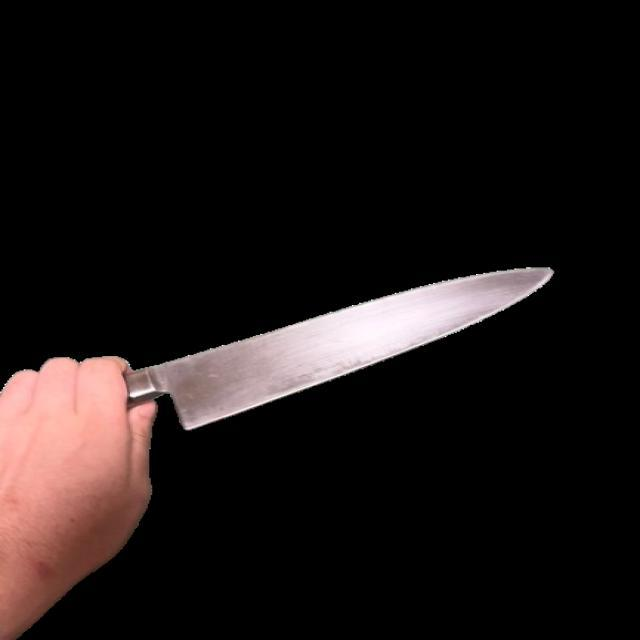knife: (97, 268, 562, 431)
